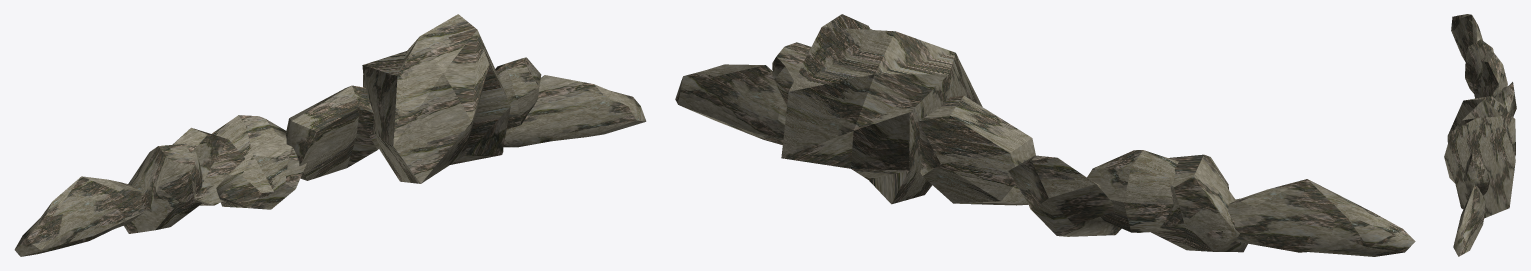
Rendered from rocks.glb.
3 renders of one model, left to right at view 1: azimuth 30°, elevation 25°; view 2: azimuth 150°, elevation 25°; view 3: azimuth 270°, elevation 25°, orthographic. The views are drawn at different scales.
Parts seen in each view (by area): view 1: rock.007; view 2: rock.007; view 3: rock.007.
Boxes of the visible parts, x1=… form: rock.007: x1=14, y1=14, x2=646, y2=256; rock.007: x1=675, y1=14, x2=1415, y2=256; rock.007: x1=1444, y1=14, x2=1516, y2=256.
Size of the model in its own units: 27.23 by 5.66 by 3.84.
1 material, 1 textured.
